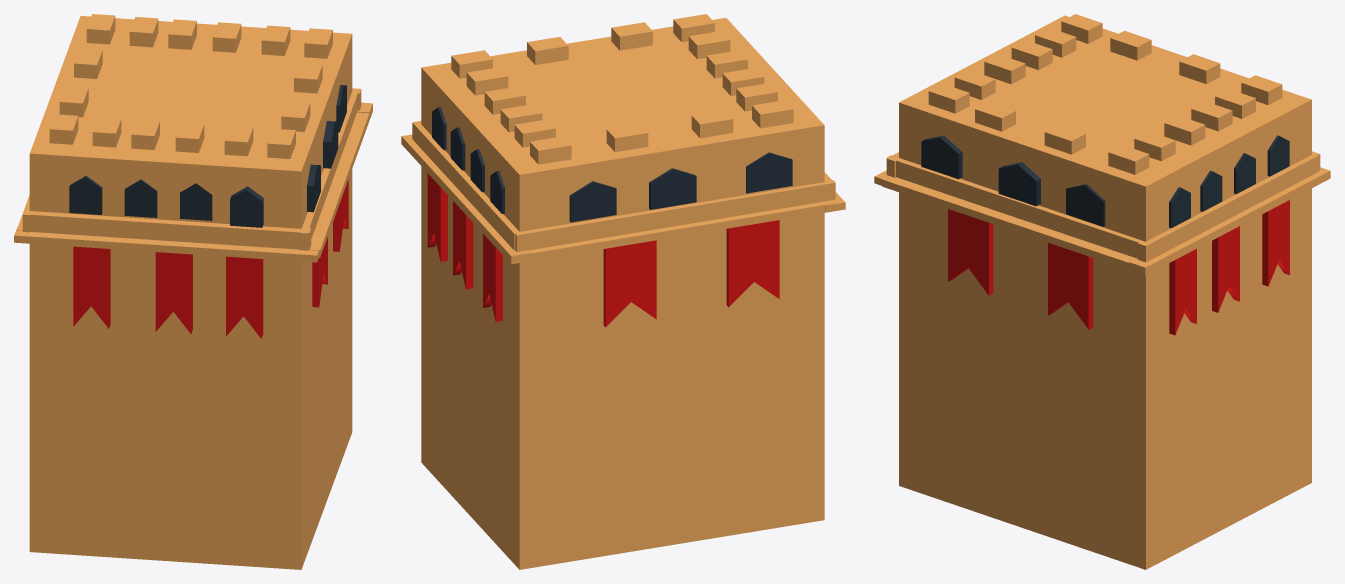
Rendered from DesertTower.FBX.
3 renders of one model, left to right at view 1: azimuth 30°, elevation 25°; view 2: azimuth 150°, elevation 25°; view 3: azimuth 270°, elevation 25°, orthographic. The views are drawn at different scales.
Visible parts, largest first — view 1: Box027, Box046, Box009, Box036, Box037, Box038, Box029, Box049, Box008, Box005, Box006, Box007 (+20 smaller); view 2: Box027, Box048, Box042, Box043, Box028, Box047, Box026, Box031, Box032, Box030, Box041, Box040 (+17 smaller); view 3: Box027, Box049, Box047, Box029, Box045, Box044, Box026, Box040, Box039, Box041, Box034, Box033 (+21 smaller).
Boxes of the visible parts, box(x1,y1,x2,y2) form: Box027: box(29, 16, 352, 569); Box046: box(24, 209, 311, 250); Box009: box(14, 226, 318, 262); Box036: box(73, 246, 110, 328); Box037: box(155, 252, 192, 333); Box038: box(226, 256, 263, 338); Box029: box(309, 105, 372, 257); Box049: box(300, 89, 358, 250); Box008: box(230, 186, 263, 227); Box005: box(69, 175, 102, 214); Box006: box(124, 179, 157, 217); Box007: box(180, 183, 212, 220); Box027: box(421, 18, 824, 569); Box048: box(515, 180, 835, 251); Box042: box(726, 220, 779, 307); Box043: box(603, 240, 656, 327); Box028: box(511, 200, 834, 264); Box047: box(412, 121, 524, 250); Box026: box(401, 134, 530, 263); Box031: box(649, 168, 696, 209); Box032: box(569, 181, 616, 222); Box030: box(746, 152, 792, 193); Box041: box(427, 173, 447, 261); Box040: box(453, 201, 473, 289); Box027: box(899, 15, 1311, 569); Box049: box(887, 155, 1149, 258); Box047: box(1137, 154, 1318, 262); Box029: box(882, 176, 1144, 274); Box045: box(1048, 243, 1093, 329); Box044: box(948, 209, 993, 295); Box026: box(1129, 167, 1330, 275); Box040: box(1212, 226, 1239, 312); Box039: box(1262, 200, 1289, 286); Box041: box(1169, 249, 1196, 335); Box034: box(998, 162, 1040, 206); Box033: box(921, 135, 962, 179).
Bounding box in the file's own units: 960 × 938 × 977.
Materials: 1 (1 with a texture image).
